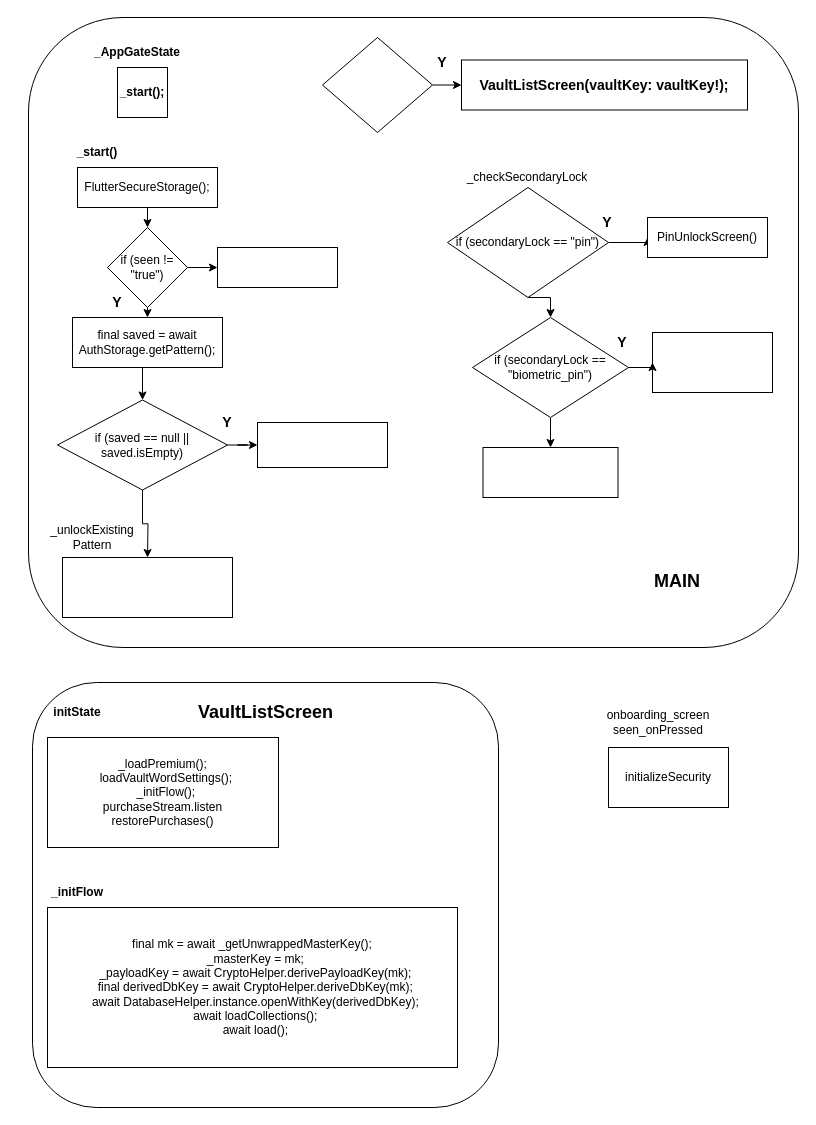
The diagram is 816 pixels wide and 1125 high, and some of its shapes have lost their labels. The centre of each missing label's shape, as x and y in pixels:
"if (_unlocked)" goes at point (377, 84).
"OnboardingScreen()" goes at point (277, 267).
"PatternSetupScreen()" goes at point (322, 445).
"return true;" goes at point (550, 472).
"tryBiometricUnlock" goes at point (712, 362).
"vaultKey = resultPattern; final ok = await _checkSecondaryLock();" goes at point (147, 587).
